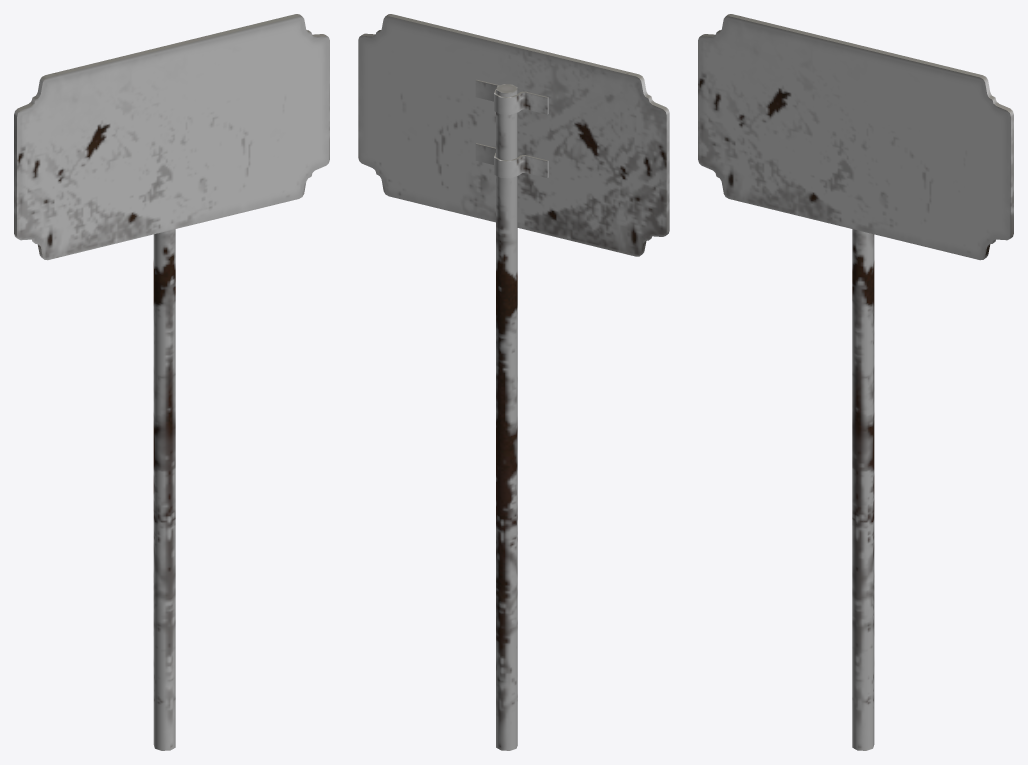
The model's file is Garden_Sign.FBX.
The picture shows the model from 3 angles, left to right: view 1: azimuth 30°, elevation 25°; view 2: azimuth 150°, elevation 25°; view 3: azimuth 330°, elevation 25°; orthographic projection.
Parts seen in each view (by area): view 1: Garden_Sign; view 2: Garden_Sign; view 3: Garden_Sign.
Part boxes in pixels (x1=…): Garden_Sign: x1=14, y1=14, x2=329, y2=750; Garden_Sign: x1=358, y1=14, x2=669, y2=750; Garden_Sign: x1=698, y1=14, x2=1013, y2=750.
Size of the model in its own units: 78.43 by 169 by 6.75.
